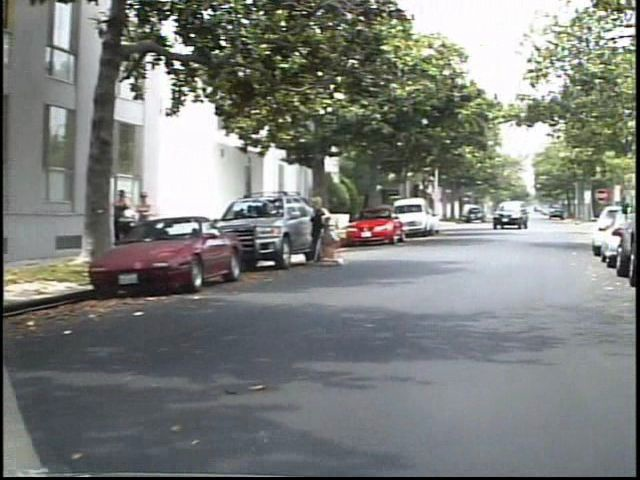person: (313, 193, 345, 273), (122, 185, 147, 254), (147, 187, 170, 251)
